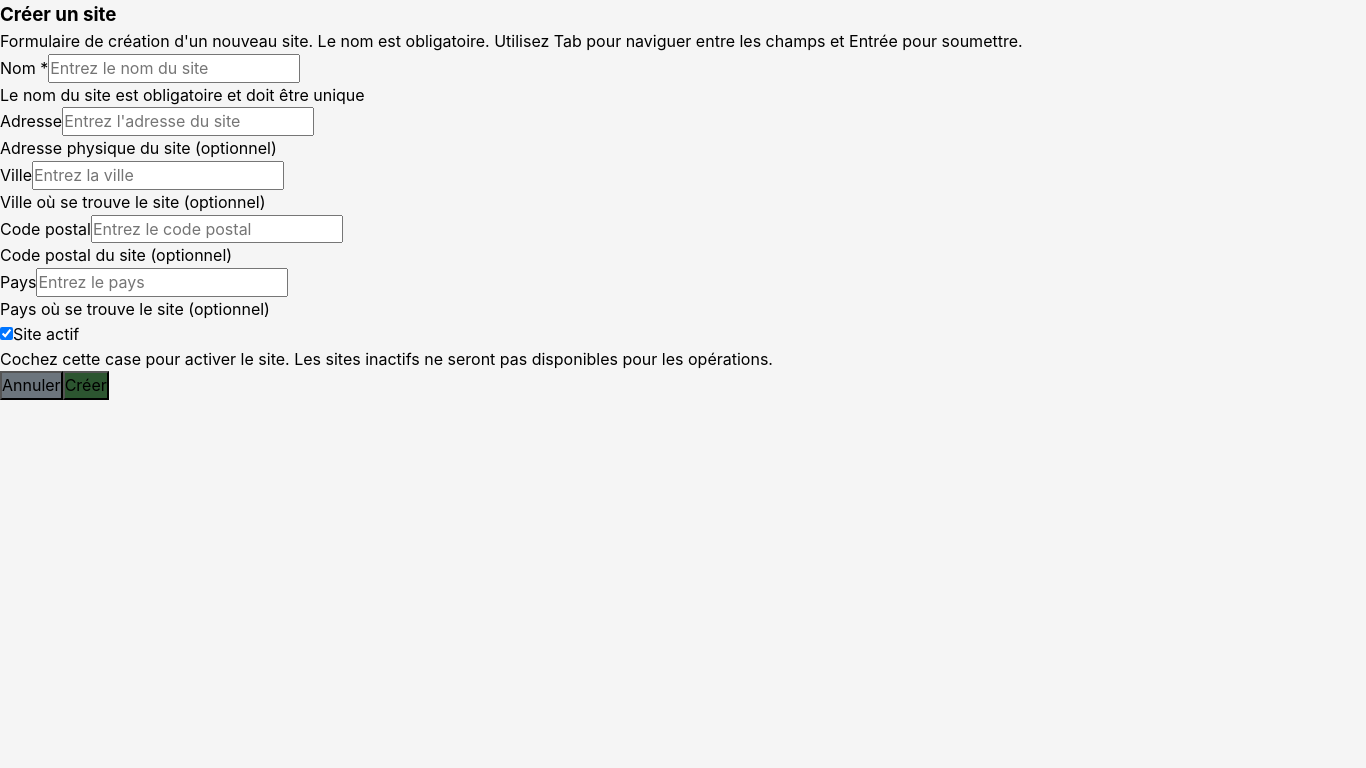
SiteForm › should disable form during loading
Type "Test Site" into the field labelled "Nom *".
click(174, 68); type("Test Site")  # box left=48, top=54, right=300, bottom=83
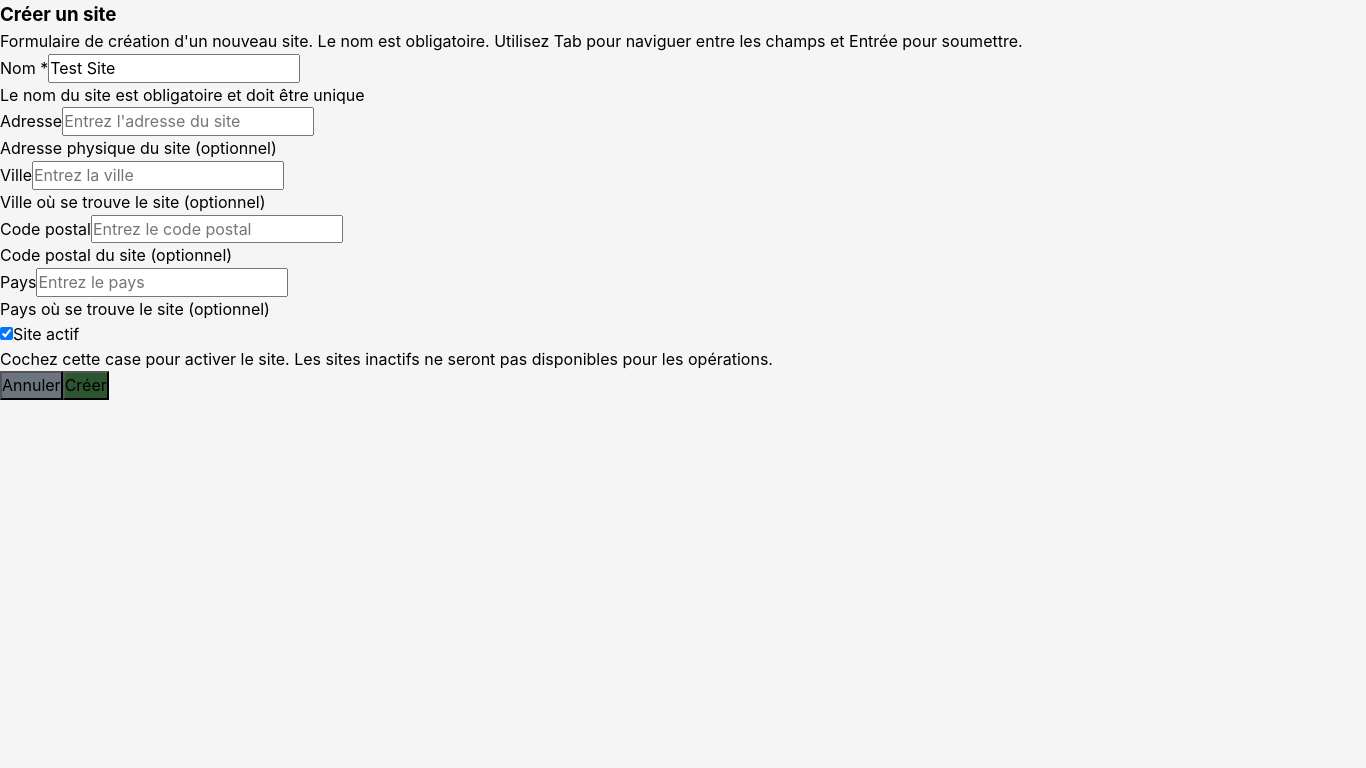
Click the button "Créer".
click(86, 386)  # box left=63, top=371, right=109, bottom=400
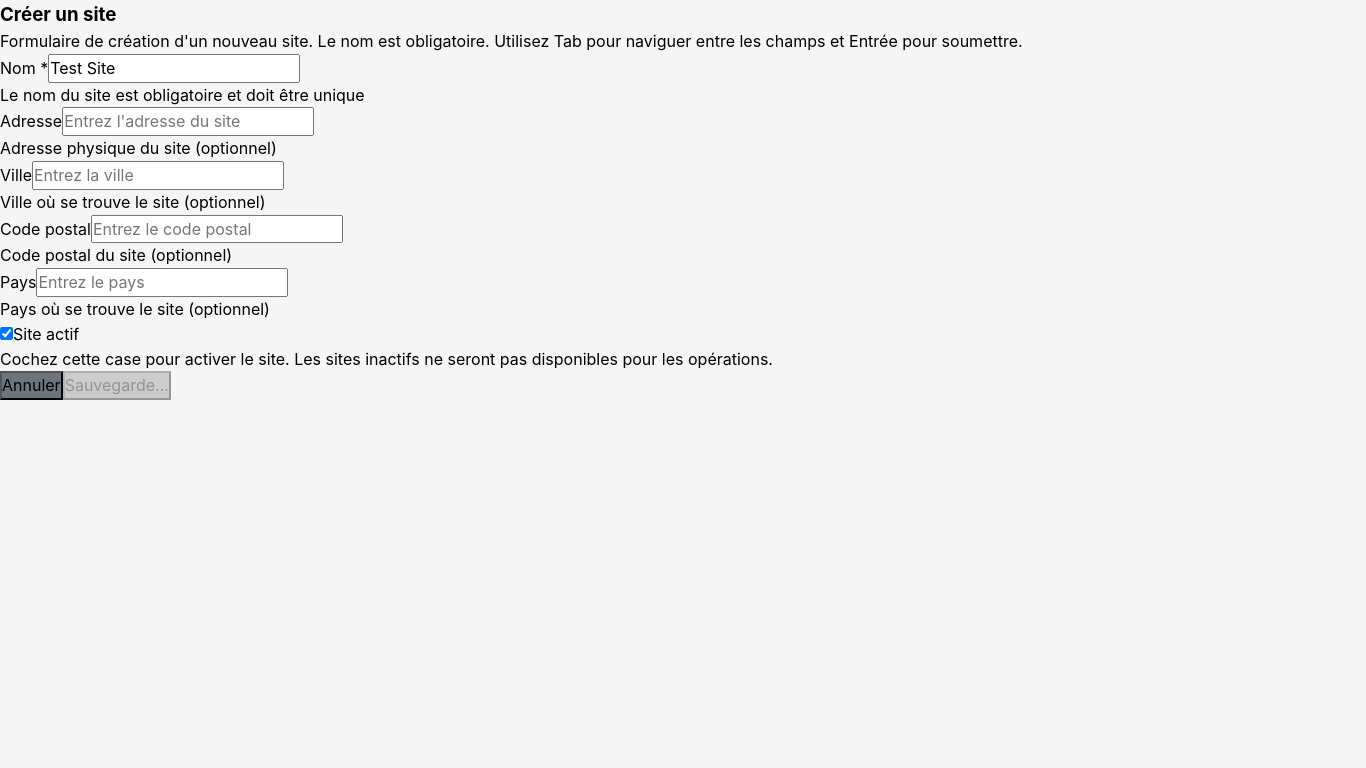
Expected: the button with aria-label "Sauvegarde en cours, veuillez patienter" is disabled, left=63, top=371, right=171, bottom=400
